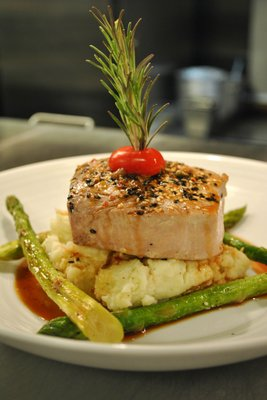soup: (62, 146, 265, 334)
